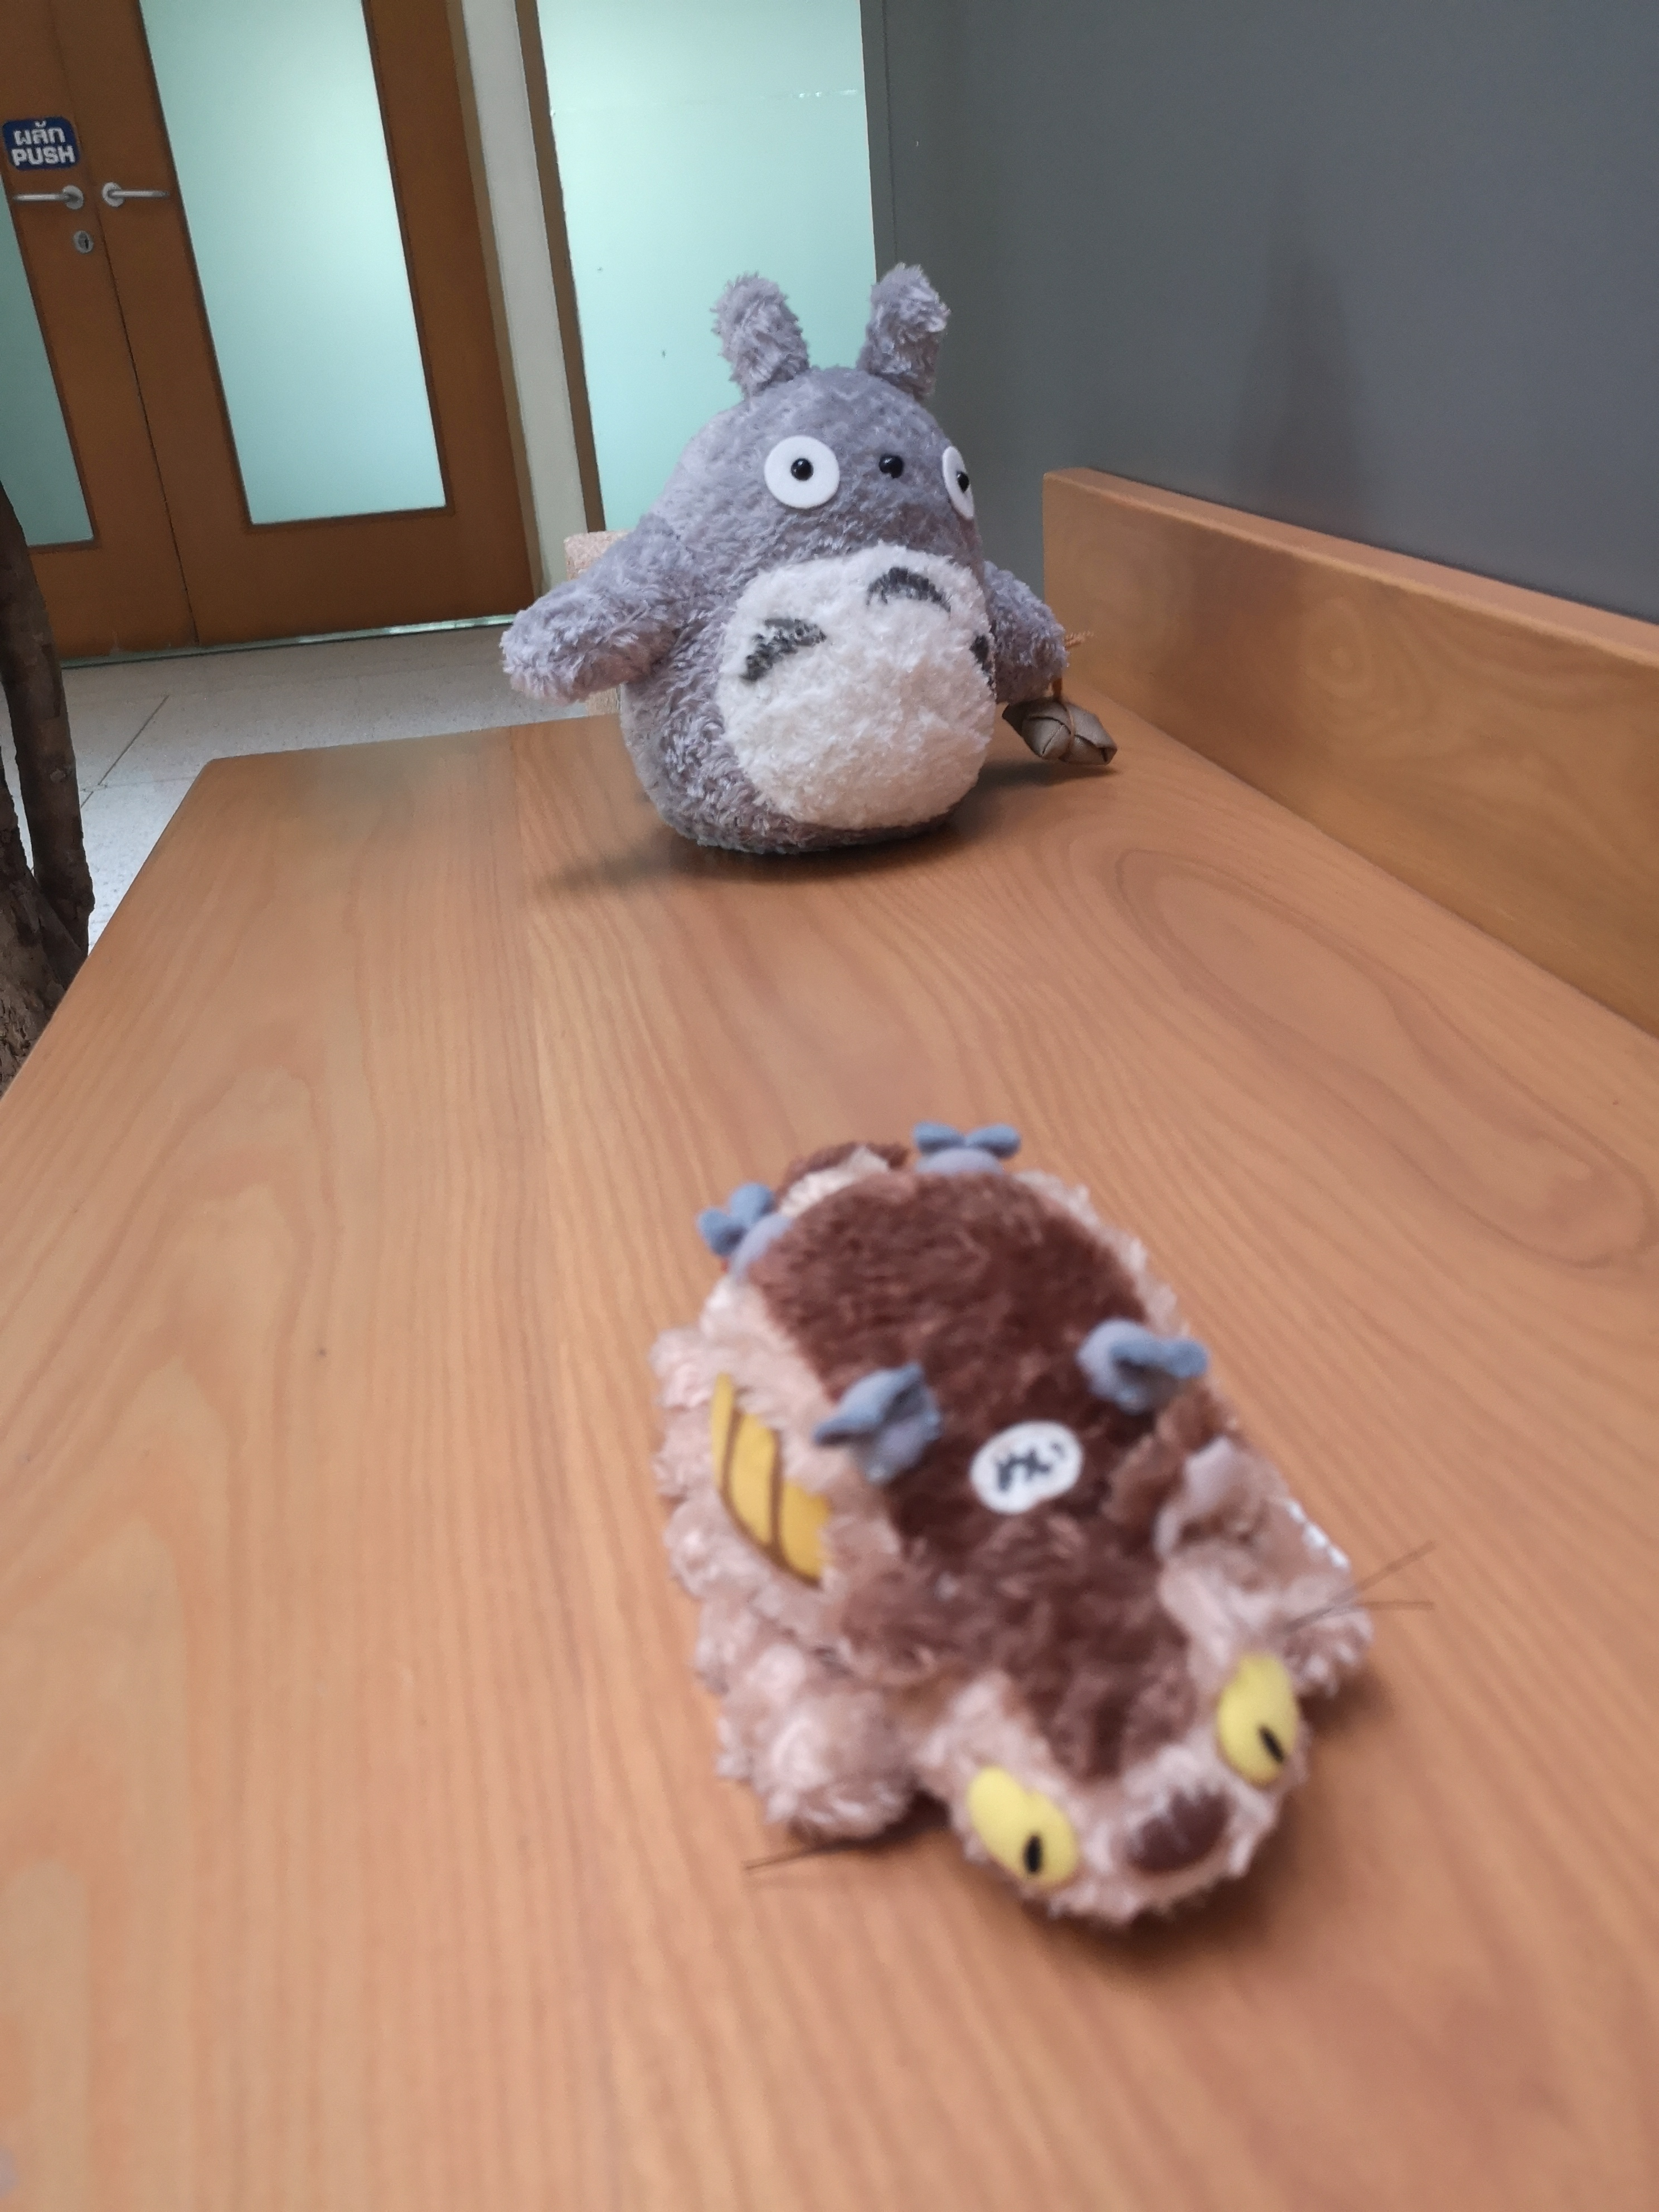nekobus: (626, 1115, 1429, 1966)
totoro: (497, 263, 1122, 883)
